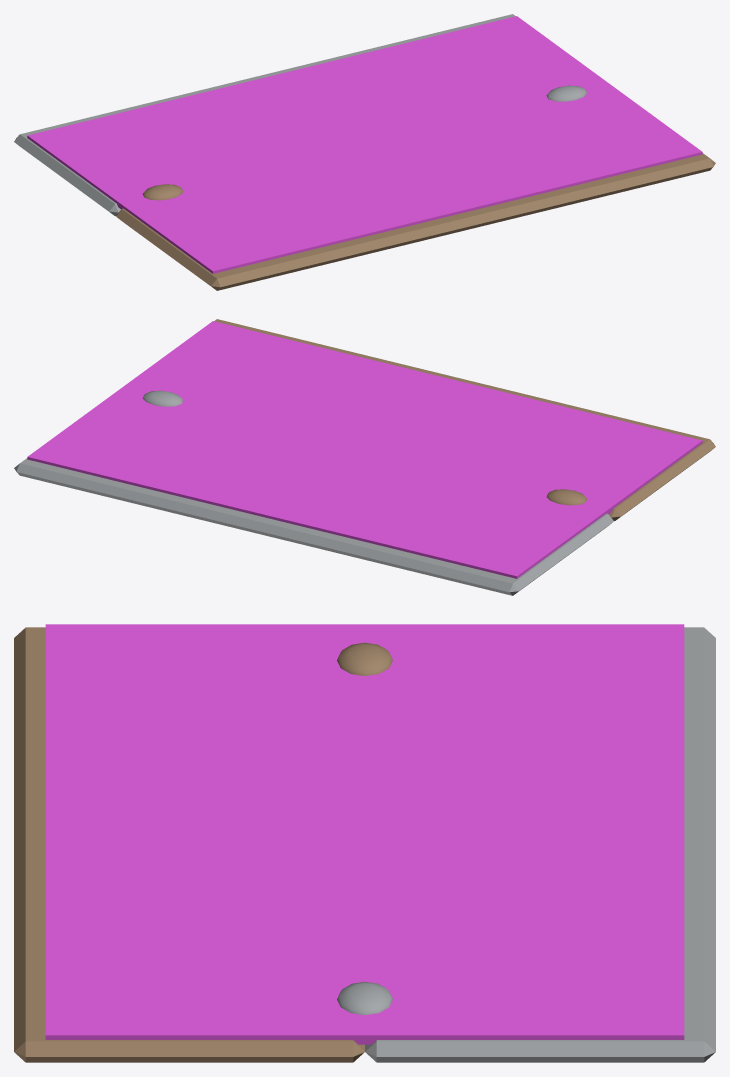
3 renders of one model, top to bottom at view 1: azimuth 30°, elevation 25°; view 2: azimuth 150°, elevation 25°; view 3: azimuth 270°, elevation 25°, orthographic. The views are drawn at different scales.
Parts seen in each view (by area): view 1: NAV_MASK_TRANSITION_DIRT_ROCK, LOD2_TRANSITION_DIRT_ROCK_A, LOD2_TRANSITION_DIRT_ROCK_B, LOD2_TRANSITION_DIRT_ROCK_Blend_01, LOD2_TRANSITION_DIRT_ROCK_Blend_02; view 2: NAV_MASK_TRANSITION_DIRT_ROCK, LOD2_TRANSITION_DIRT_ROCK_B, LOD2_TRANSITION_DIRT_ROCK_A, LOD2_TRANSITION_DIRT_ROCK_Blend_01, LOD2_TRANSITION_DIRT_ROCK_Blend_02; view 3: NAV_MASK_TRANSITION_DIRT_ROCK, LOD2_TRANSITION_DIRT_ROCK_A, LOD2_TRANSITION_DIRT_ROCK_B, LOD2_TRANSITION_DIRT_ROCK_Blend_02, LOD2_TRANSITION_DIRT_ROCK_Blend_01.
Part boxes in pixels (x1=…): NAV_MASK_TRANSITION_DIRT_ROCK: x1=27, y1=16, x2=702, y2=273; LOD2_TRANSITION_DIRT_ROCK_A: x1=116, y1=153, x2=715, y2=290; LOD2_TRANSITION_DIRT_ROCK_B: x1=14, y1=14, x2=515, y2=216; LOD2_TRANSITION_DIRT_ROCK_Blend_01: x1=143, y1=184, x2=183, y2=200; LOD2_TRANSITION_DIRT_ROCK_Blend_02: x1=546, y1=85, x2=587, y2=101; NAV_MASK_TRANSITION_DIRT_ROCK: x1=27, y1=321, x2=702, y2=578; LOD2_TRANSITION_DIRT_ROCK_B: x1=14, y1=458, x2=613, y2=595; LOD2_TRANSITION_DIRT_ROCK_A: x1=214, y1=319, x2=715, y2=521; LOD2_TRANSITION_DIRT_ROCK_Blend_01: x1=546, y1=489, x2=586, y2=505; LOD2_TRANSITION_DIRT_ROCK_Blend_02: x1=142, y1=390, x2=183, y2=406; NAV_MASK_TRANSITION_DIRT_ROCK: x1=45, y1=624, x2=684, y2=1044; LOD2_TRANSITION_DIRT_ROCK_A: x1=14, y1=627, x2=364, y2=1062; LOD2_TRANSITION_DIRT_ROCK_B: x1=365, y1=627, x2=715, y2=1062; LOD2_TRANSITION_DIRT_ROCK_Blend_02: x1=337, y1=981, x2=392, y2=1015; LOD2_TRANSITION_DIRT_ROCK_Blend_01: x1=337, y1=642, x2=392, y2=675.
Size of what is drawn, in the model's own units: 6 by 0.23 by 4.2.
